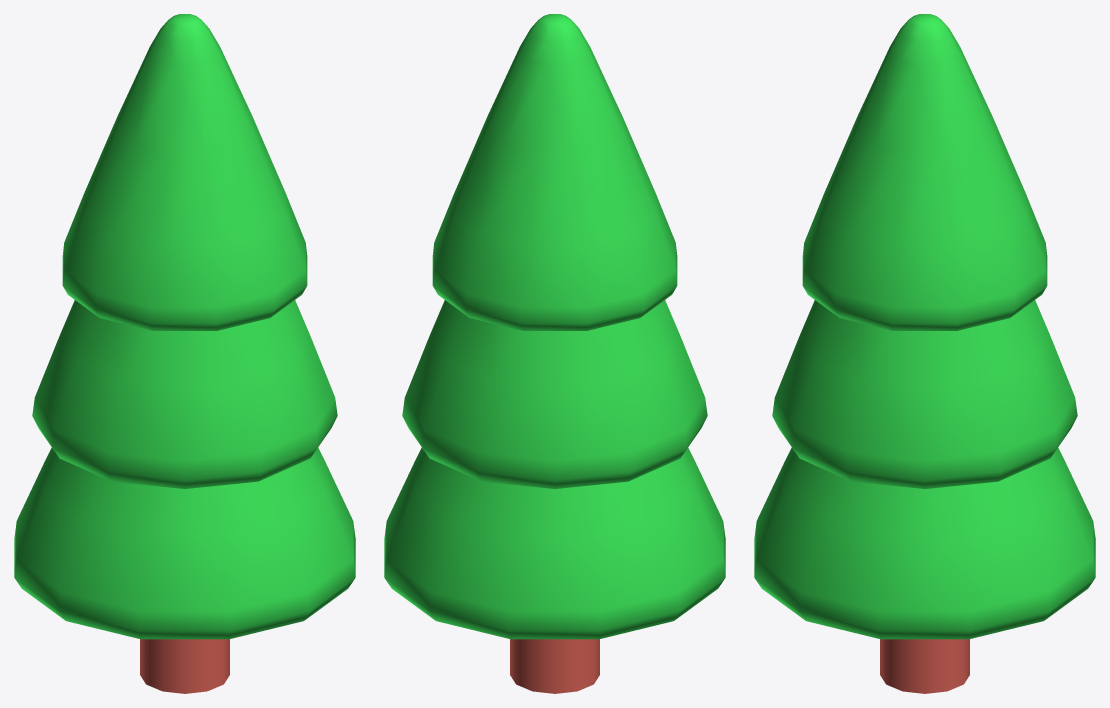
Rendered from Tree_05_lvl.fbx.
The picture shows the model from 3 angles, left to right: view 1: azimuth 30°, elevation 25°; view 2: azimuth 150°, elevation 25°; view 3: azimuth 270°, elevation 25°; orthographic projection.
Parts seen in each view (by area): view 1: tree_4.006; view 2: tree_4.006; view 3: tree_4.006.
Boxes of the visible parts, bbox=[...] form: tree_4.006: bbox=[14, 14, 355, 693]; tree_4.006: bbox=[384, 14, 725, 693]; tree_4.006: bbox=[754, 14, 1095, 693].
Bounding box in the file's own units: 116 × 247 × 116.
